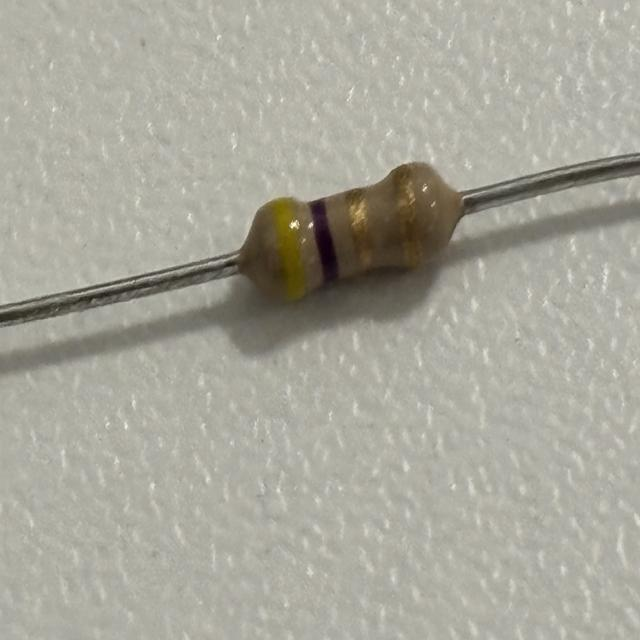resistor: (245, 158, 458, 314)
